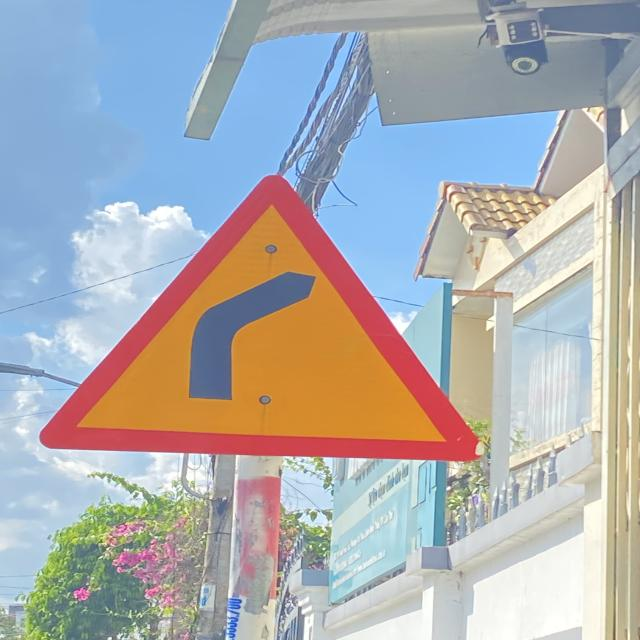Duong_Nguoi_Di_Bo_Cat_Ngang: (34, 171, 478, 456)
